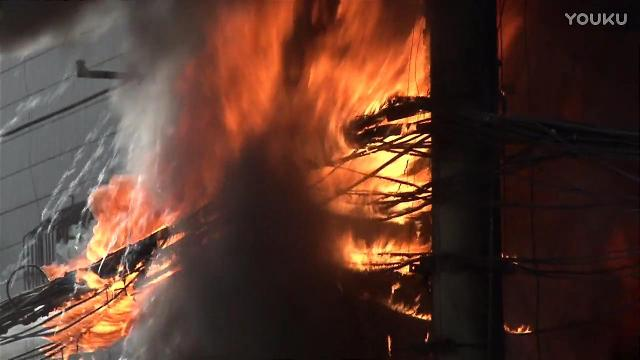fire: (198, 3, 292, 161), (310, 40, 384, 112), (382, 22, 430, 96), (317, 168, 363, 218), (325, 2, 381, 40), (384, 152, 430, 192), (68, 318, 112, 354), (318, 110, 349, 156), (341, 237, 375, 269), (374, 238, 428, 253), (362, 175, 382, 215), (105, 302, 127, 338), (359, 152, 388, 170), (80, 272, 104, 290), (516, 322, 530, 334), (402, 306, 418, 316), (376, 256, 400, 262), (415, 312, 433, 320), (388, 302, 404, 310)
